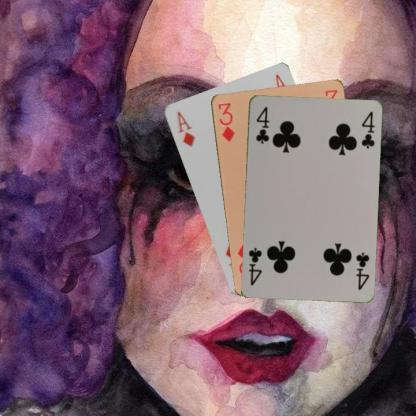3d: (215, 100, 236, 143)
4c: (353, 250, 370, 291), (253, 104, 270, 144)
Ad: (174, 109, 196, 148)
